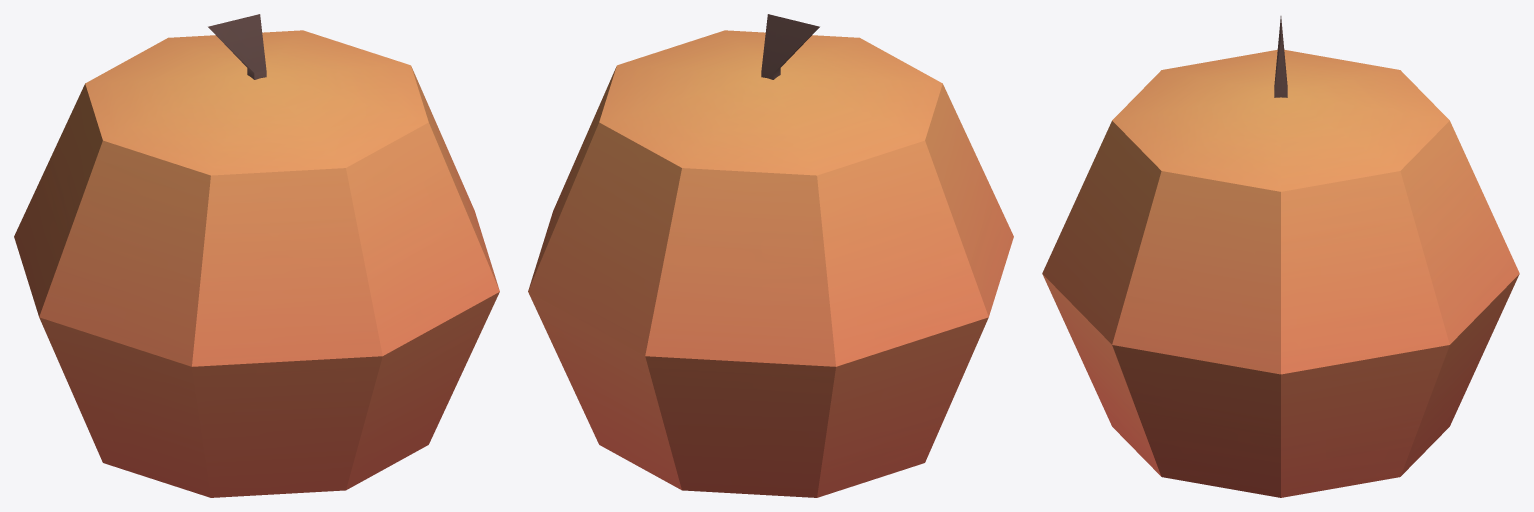
File: Яблоко светлое.fbx
3 views of the same model, side by side, from view 1: azimuth 30°, elevation 25°; view 2: azimuth 150°, elevation 25°; view 3: azimuth 270°, elevation 25° (orthographic). The views are drawn at different scales.
Visible parts, largest first — view 1: Яблоко_светлое; view 2: Яблоко_светлое; view 3: Яблоко_светлое.
Part boxes in pixels (x1,y1,x2,y2): Яблоко_светлое: (14, 14, 499, 497); Яблоко_светлое: (528, 14, 1013, 497); Яблоко_светлое: (1042, 16, 1519, 497).
Bounding box in the file's own units: 12.98 × 12.37 × 12.98.
